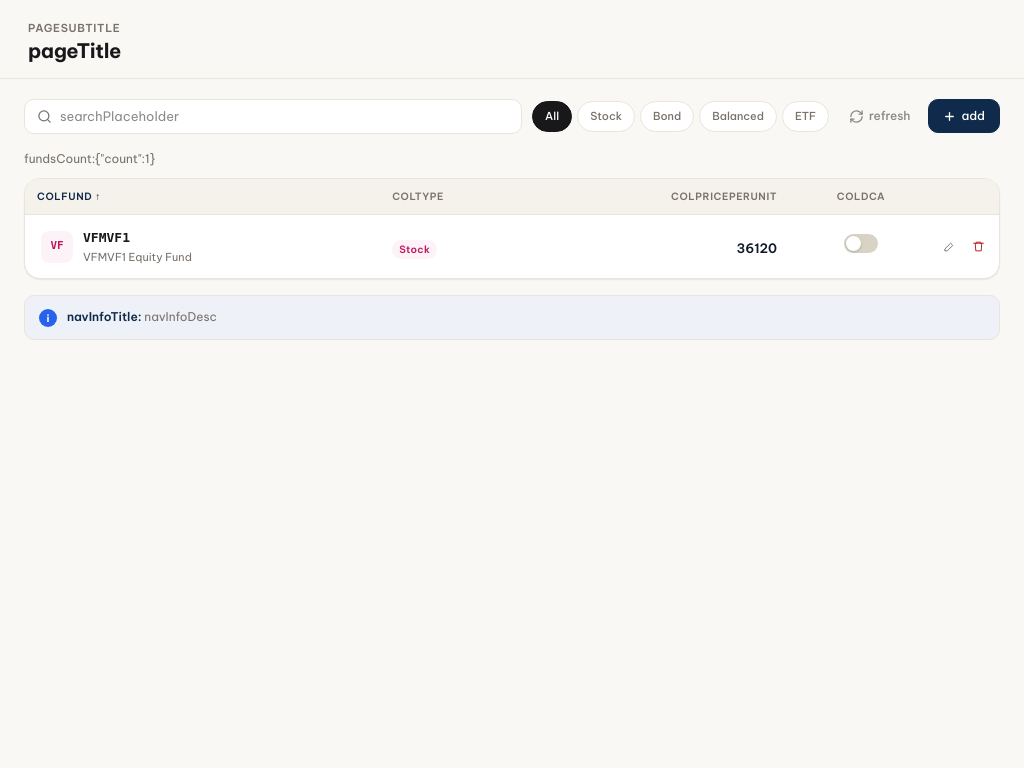
it: DesktopFundLibraryView — delete of an in-use fund is hard-blocked with a clear message (#1) › shows the in-use message and does NOT reload when the API returns 409
Click the button with test id "fund-delete-btn" at (978, 246), box x1=966 y1=234 x2=991 y2=259
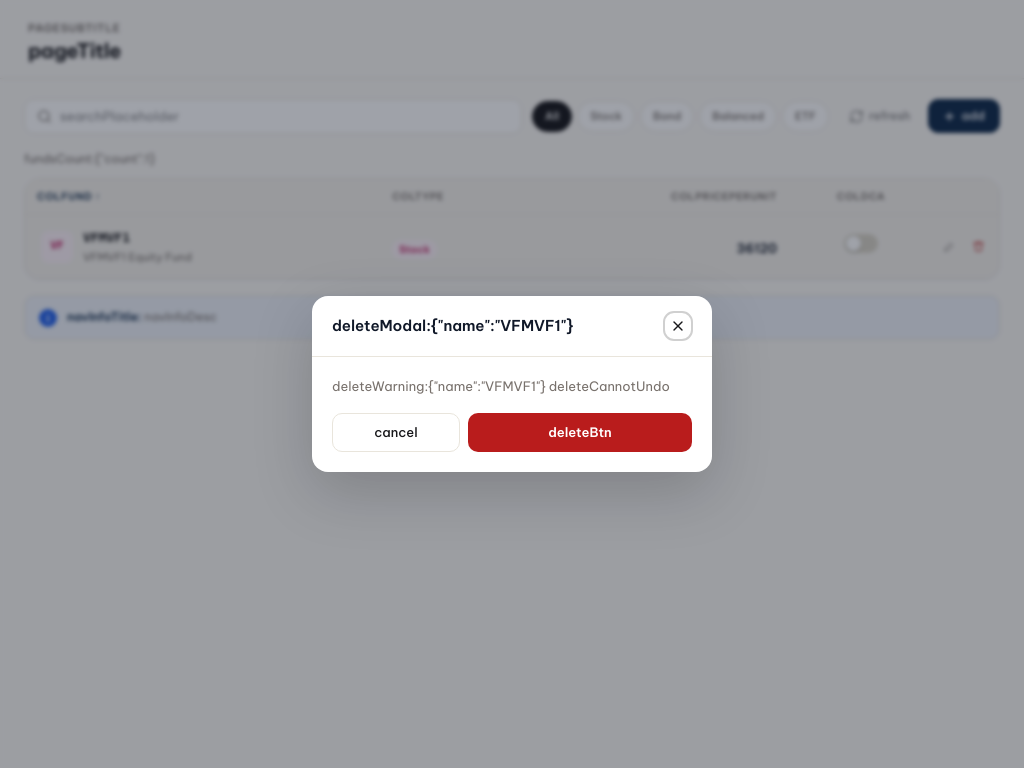
Click the button "deleteBtn" at (580, 432), box x1=468 y1=412 x2=692 y2=452
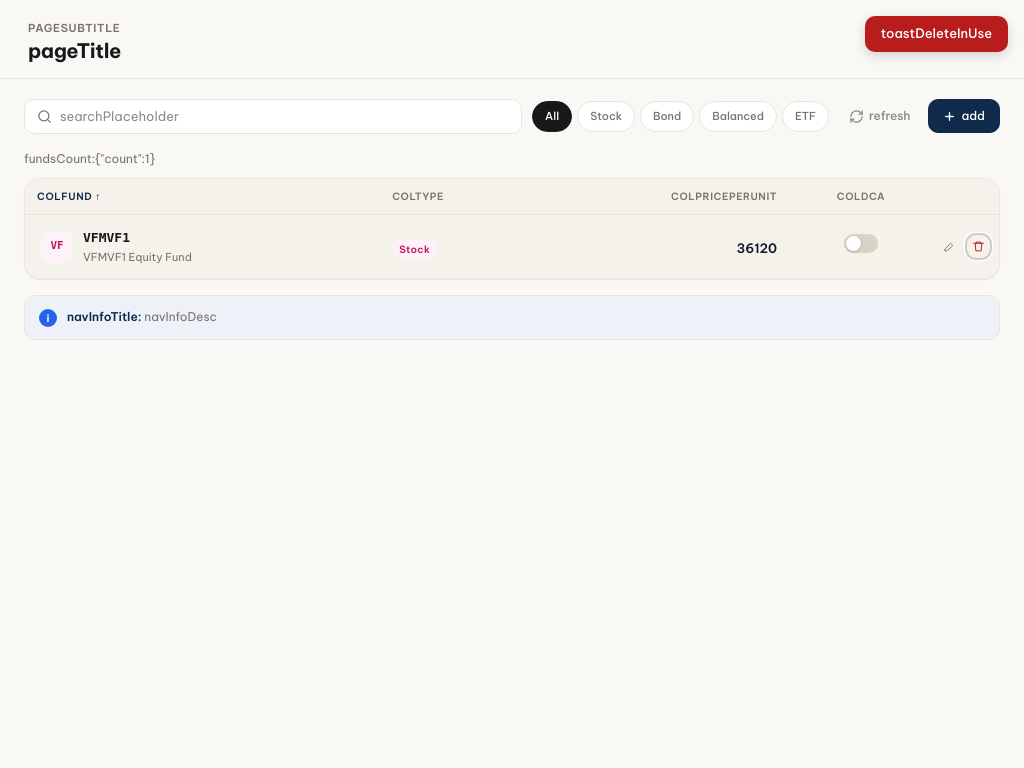
Result: the text "toastDeleteInUse" is shown at x1=865 y1=16 x2=1008 y2=52
